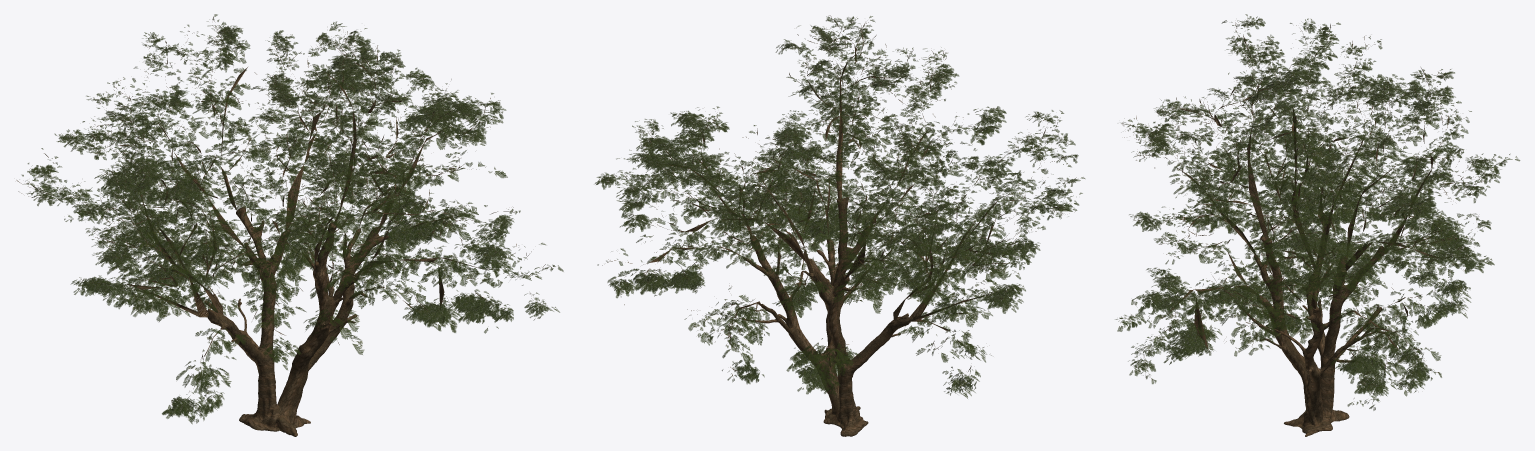
Rendered from mid.glb.
The picture shows the model from 3 angles, left to right: view 1: azimuth 30°, elevation 25°; view 2: azimuth 150°, elevation 25°; view 3: azimuth 270°, elevation 25°; orthographic projection. The views are drawn at different scales.
Parts seen in each view (by area): view 1: jacaranda_tree_LOD1; view 2: jacaranda_tree_LOD1; view 3: jacaranda_tree_LOD1.
Part boxes in pixels (<box>): jacaranda_tree_LOD1: <box>16,14,563,436</box>; jacaranda_tree_LOD1: <box>595,15,1084,436</box>; jacaranda_tree_LOD1: <box>1115,14,1520,436</box>.
Size of the model in its own units: 24.36 by 19.43 by 19.05.
3 materials, 3 textured.
